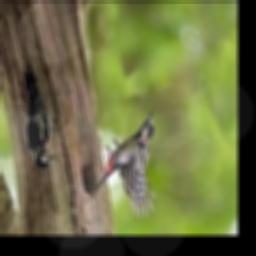Woodpecker: (94, 112, 154, 219), (24, 66, 58, 169)
